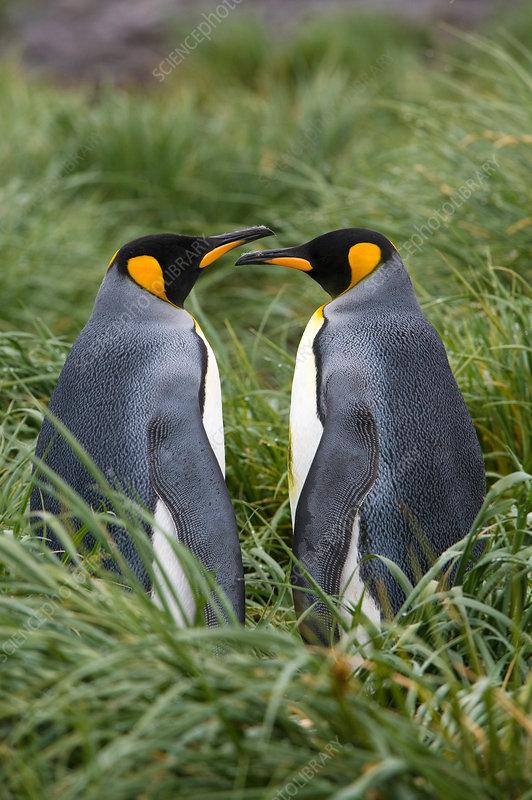king: (222, 167, 524, 674), (31, 195, 272, 670)
